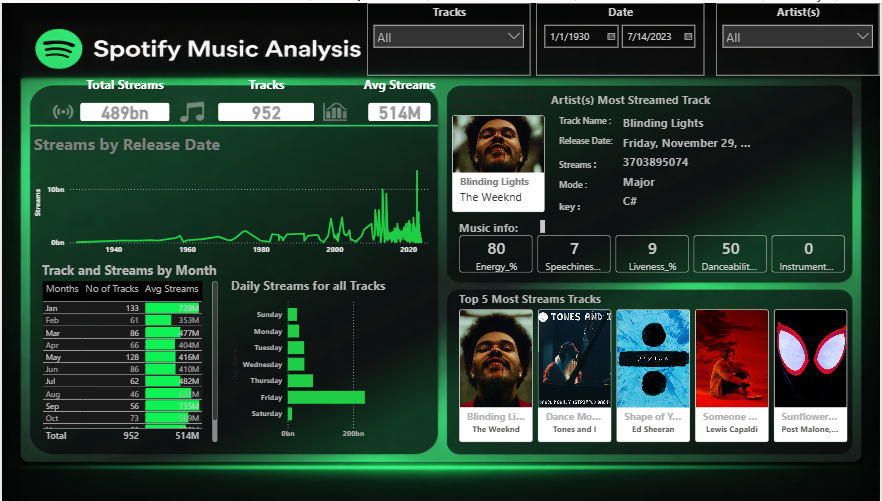

The dashboard page shown, as its layout file describes it:
{"tool":"powerbi","page":{"name":"Page 1","canvas":[1440,820],"ordinal":0},"visuals":[{"type":"cardVisual","title":"Total Streams","fields":{"Data":["Sum(Spotify Dataset.streams)"]},"box":[111.5,119.7,180.4,91.8],"z":0},{"type":"cardVisual","title":"Tracks","fields":{"Data":["CountNonNull(Spotify Dataset.track_name)"]},"box":[337.8,119.7,191.9,91.8],"z":1000},{"type":"cardVisual","title":"Avg Streams","fields":{"Data":["Avg(Spotify Dataset.streams)"]},"box":[583.8,119.7,136.1,91.8],"z":2000},{"type":"lineChart","title":"Streams by Release Date","fields":{"Category":["Calender.Date"],"Y":["Sum(Spotify Dataset.streams)"]},"box":[47.6,211.6,659.3,211.6],"z":3000},{"type":"tableEx","title":"Track and Streams by Month","fields":{"Values":["Calender.Month_Name","Spotify Dataset.track_name","Avg(Spotify Dataset.streams)"]},"box":[60.7,423.1,298.5,301.8],"z":4000},{"type":"clusteredBarChart","title":"Daily Streams for all Tracks","fields":{"Y":["Sum(Spotify Dataset.streams)"],"Category":["Calender.Day_Name"]},"box":[370.6,449.4,282.1,275.5],"z":5000},{"type":"textbox","box":[895.4,141,280.4,37.7],"z":6000},{"type":"advancedSlicerVisual","fields":{"Values":["Spotify Dataset.track_name"],"Label":["Sum(Spotify Dataset.streams)"]},"box":[733.2,141.7,162.5,207.9],"z":7000},{"type":"multiRowCard","fields":{"Values":["Spotify Dataset.track_name","Spotify Dataset.Date","Sum(Spotify Dataset.streams)","Spotify Dataset.mode","Spotify Dataset.key"]},"box":[1012.9,179.5,223,170.1],"z":8000},{"type":"textbox","box":[909,179.5,126.6,52.9],"z":9000},{"type":"textbox","box":[909,211.7,147.4,34],"z":10000},{"type":"textbox","box":[908.6,246,126.3,37.7],"z":11000},{"type":"textbox","box":[909,283.5,126.6,34],"z":12000},{"type":"textbox","box":[909,317.5,90.7,32.1],"z":13000},{"type":"cardVisual","fields":{"Data":["Sum(Spotify Dataset.energy_%)","Sum(Spotify Dataset.speechiness_%)","Sum(Spotify Dataset.liveness_%)","Sum(Spotify Dataset.danceability_%)","Sum(Spotify Dataset.instrumentalness_%)"]},"box":[733.1,364.1,670.8,95.1],"z":14000},{"type":"textbox","box":[744.6,351,150.9,32.8],"z":15000},{"type":"advancedSlicerVisual","title":"Top 5 Most Streams Tracks","fields":{"Values":["Spotify Dataset.track_name"],"Label":["Sum(Spotify Dataset.streams)"]},"box":[744.6,472.4,652,253.2],"z":16000},{"type":"slicer","title":"Tracks","fields":{"Values":["Spotify Dataset.track_name"]},"box":[599.1,0,268.3,119.1],"z":17000},{"type":"slicer","title":"Date","fields":{"Values":["Spotify Dataset.Date"]},"box":[875,0,275.9,119.1],"z":18000},{"type":"slicer","title":"Artist(s)","fields":{"Values":["Spotify Dataset.artist(s)_name"]},"box":[1171.7,0,268.3,119.1],"z":19000}]}

Visuals, with their boxes in screenshot pixels (x1, y1, x2, y2), scaled from the page's 1440x820 canvas onto the 882x501 screenshot:
"Total Streams" cardVisual: bbox=[68, 73, 179, 129]
"Tracks" cardVisual: bbox=[207, 73, 324, 129]
"Avg Streams" cardVisual: bbox=[358, 73, 441, 129]
"Streams by Release Date" lineChart: bbox=[29, 129, 433, 259]
"Track and Streams by Month" tableEx: bbox=[37, 259, 220, 443]
"Daily Streams for all Tracks" clusteredBarChart: bbox=[227, 275, 400, 443]
textbox: bbox=[548, 86, 720, 109]
advancedSlicerVisual - Spotify Dataset.track_name x Sum(Spotify Dataset.streams): bbox=[449, 87, 549, 214]
multiRowCard - Spotify Dataset.track_name x Spotify Dataset.Date: bbox=[620, 110, 757, 214]
textbox: bbox=[557, 110, 634, 142]
textbox: bbox=[557, 129, 647, 150]
textbox: bbox=[557, 150, 634, 173]
textbox: bbox=[557, 173, 634, 194]
textbox: bbox=[557, 194, 612, 214]
cardVisual - Sum(Spotify Dataset.energy_%) x Sum(Spotify Dataset.speechiness_%): bbox=[449, 222, 860, 281]
textbox: bbox=[456, 214, 548, 234]
"Top 5 Most Streams Tracks" advancedSlicerVisual: bbox=[456, 289, 855, 443]
"Tracks" slicer: bbox=[367, 0, 531, 73]
"Date" slicer: bbox=[536, 0, 705, 73]
"Artist(s)" slicer: bbox=[718, 0, 881, 73]
